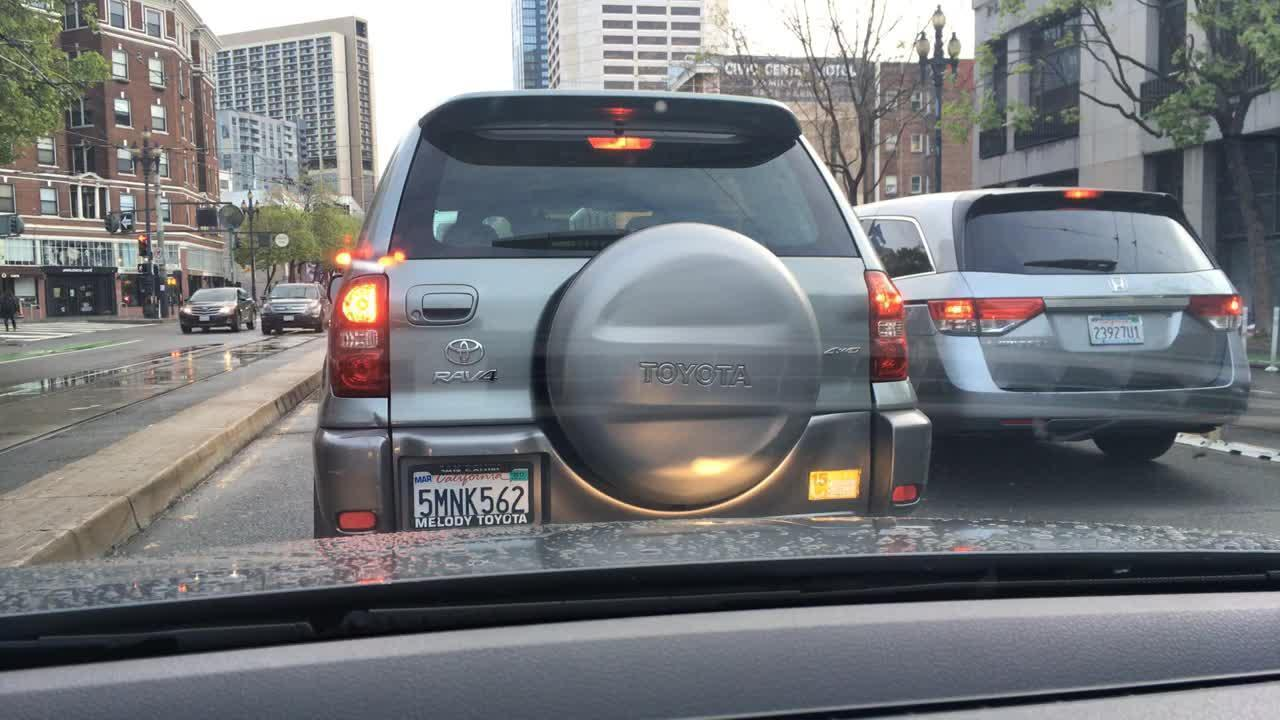Honda: (1106, 272, 1132, 300)
Toyota: (437, 330, 493, 368)
